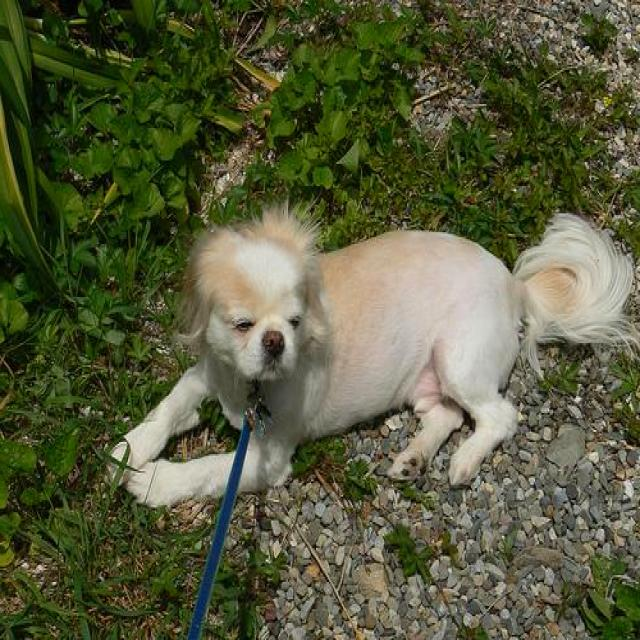pekinese: (96, 185, 638, 516)
